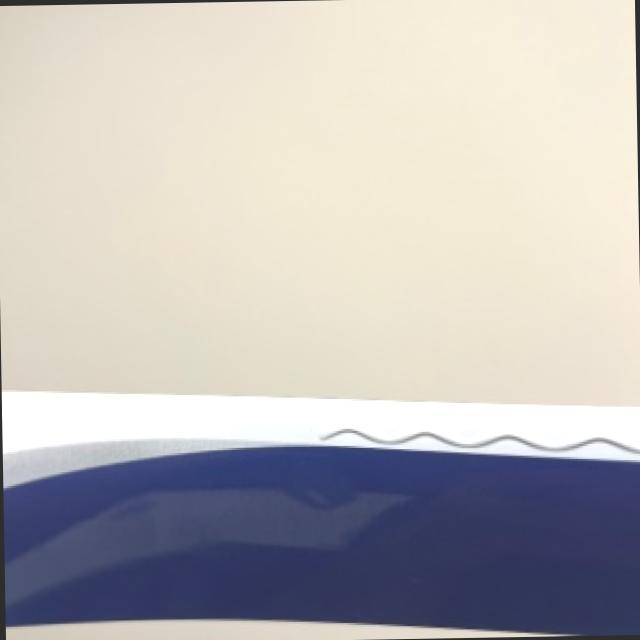healthy: (1, 389, 640, 640)
